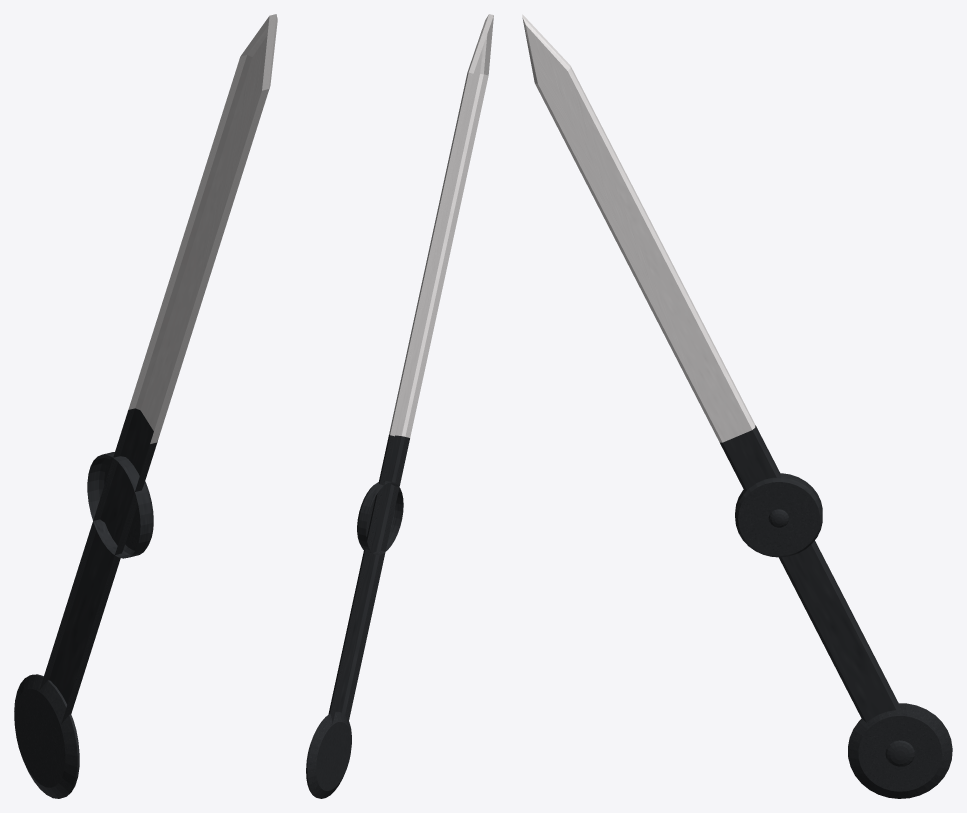
The model's file is tv-45_needle.obj.
The picture shows the model from 3 angles, left to right: view 1: azimuth 30°, elevation 25°; view 2: azimuth 150°, elevation 25°; view 3: azimuth 270°, elevation 25°; orthographic projection. The views are drawn at different scales.
Visible parts, largest first — view 1: Object030; view 2: Object030; view 3: Object030.
Boxes of the visible parts, x1,y1,x2,y2 form: Object030: (14, 14, 277, 798); Object030: (306, 14, 493, 798); Object030: (522, 14, 952, 798).
Size of the model in its own units: 0.8341 by 36.72 by 18.31.
2 materials, 2 textured.
